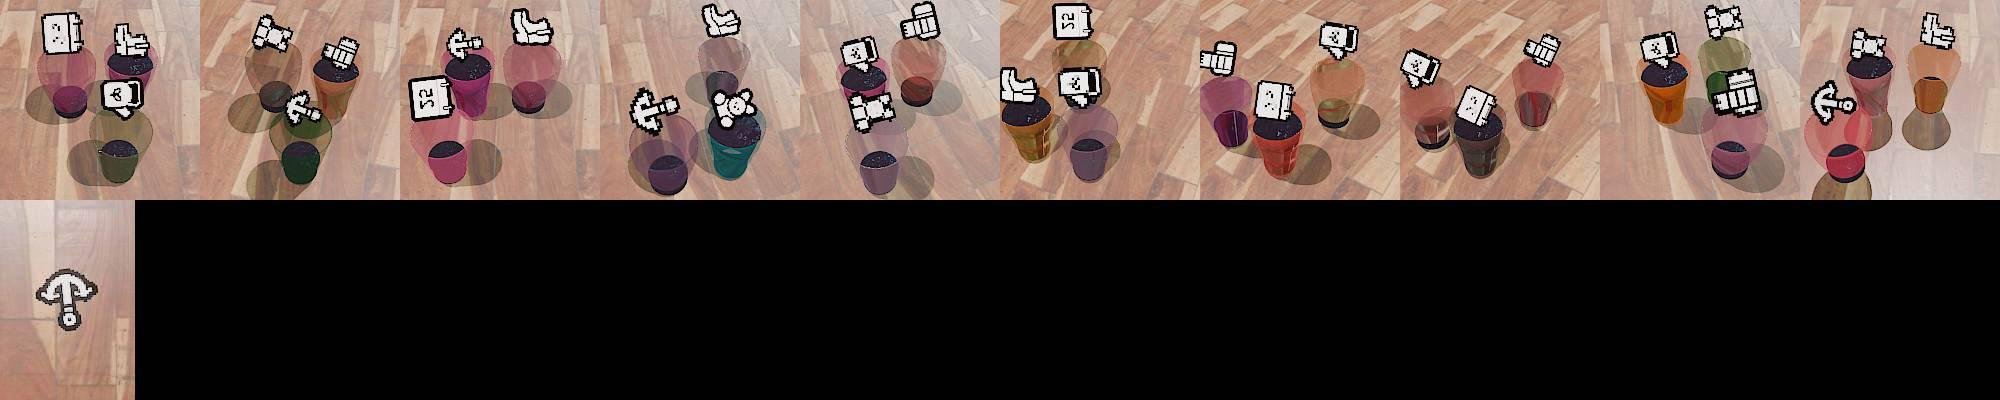icon: (34, 269, 99, 334), (1709, 66, 1764, 117), (629, 87, 681, 134), (408, 75, 455, 122), (1811, 79, 1857, 125), (1454, 84, 1499, 131), (848, 89, 897, 132), (710, 87, 759, 129), (1057, 66, 1103, 110), (41, 11, 84, 56), (1255, 78, 1296, 124), (251, 14, 296, 54), (98, 78, 143, 117), (1319, 20, 1360, 62), (1051, 3, 1093, 42), (1000, 66, 1040, 108), (510, 8, 554, 46), (899, 1, 939, 42), (1401, 48, 1439, 90), (1639, 31, 1681, 69), (1704, 3, 1744, 41), (1918, 11, 1957, 51), (1199, 39, 1237, 79), (700, 3, 741, 39), (444, 27, 486, 62), (1523, 32, 1562, 69), (283, 88, 321, 125), (112, 22, 151, 59), (320, 37, 360, 73), (839, 34, 879, 70), (1848, 27, 1888, 61)
